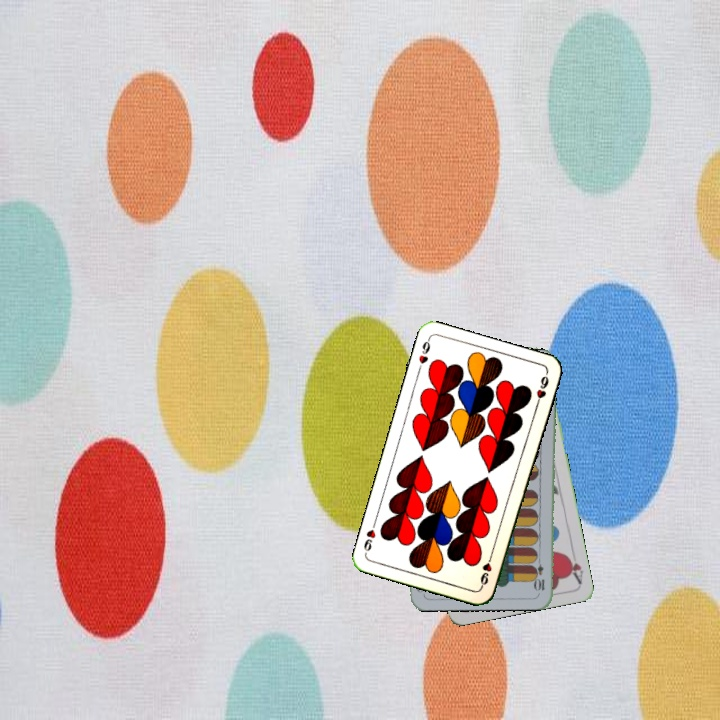E10: (533, 553, 547, 593)
H9: (476, 550, 495, 590), (414, 335, 433, 375)
HA: (562, 546, 586, 586)
